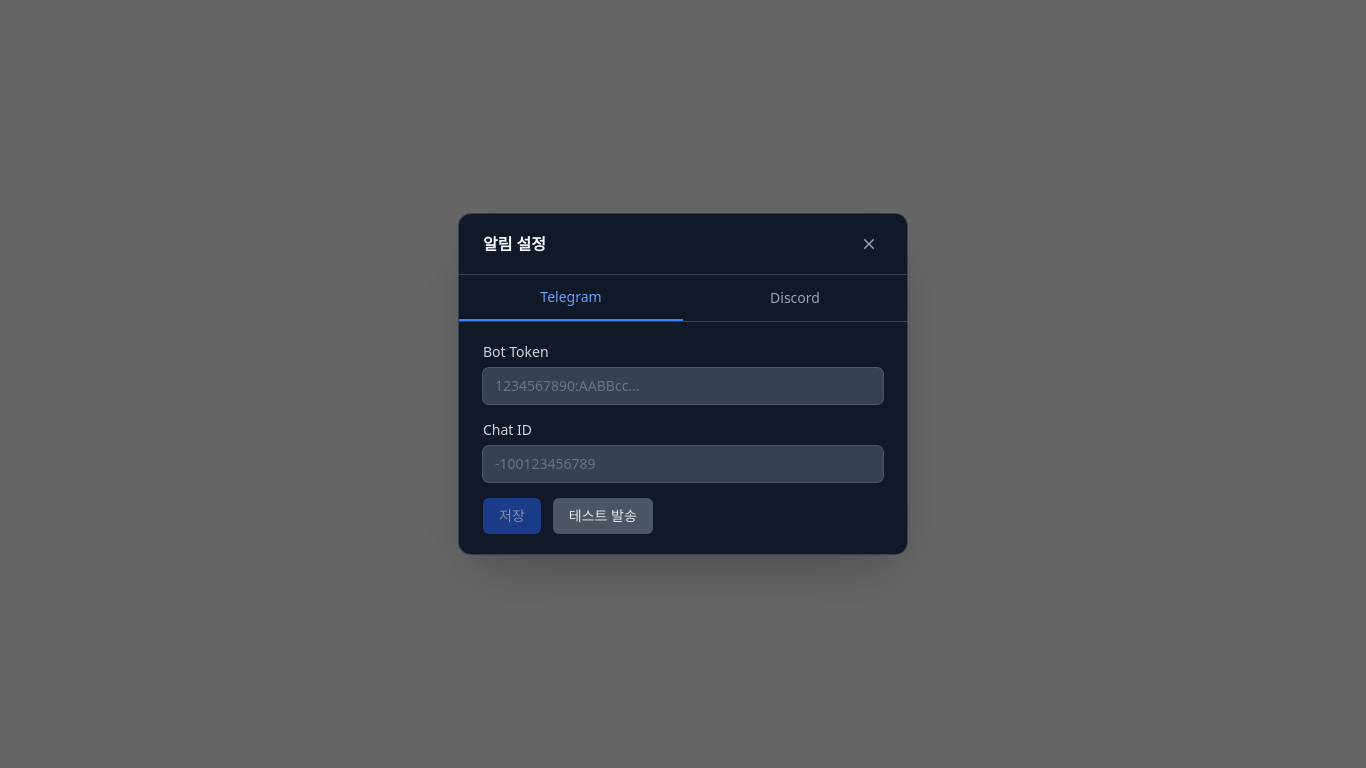
SettingsDialog › Telegram 테스트 발송 성공 시 "발송 성공" 텍스트를 표시한다
In the password field labelled "Bot Token": (683, 386) [483,368,883,404], type "token123"
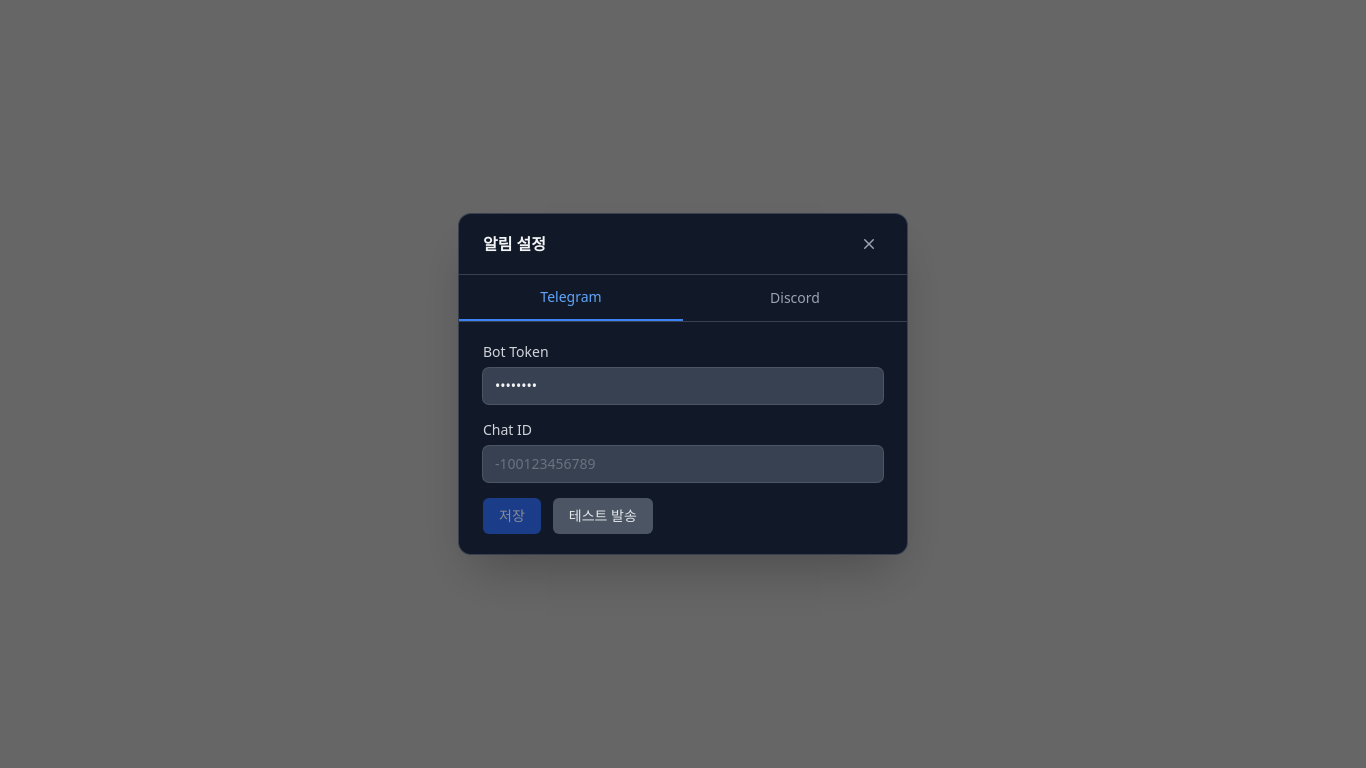
In the field labelled "Chat ID": (683, 464) [483,446,883,482], type "-999"
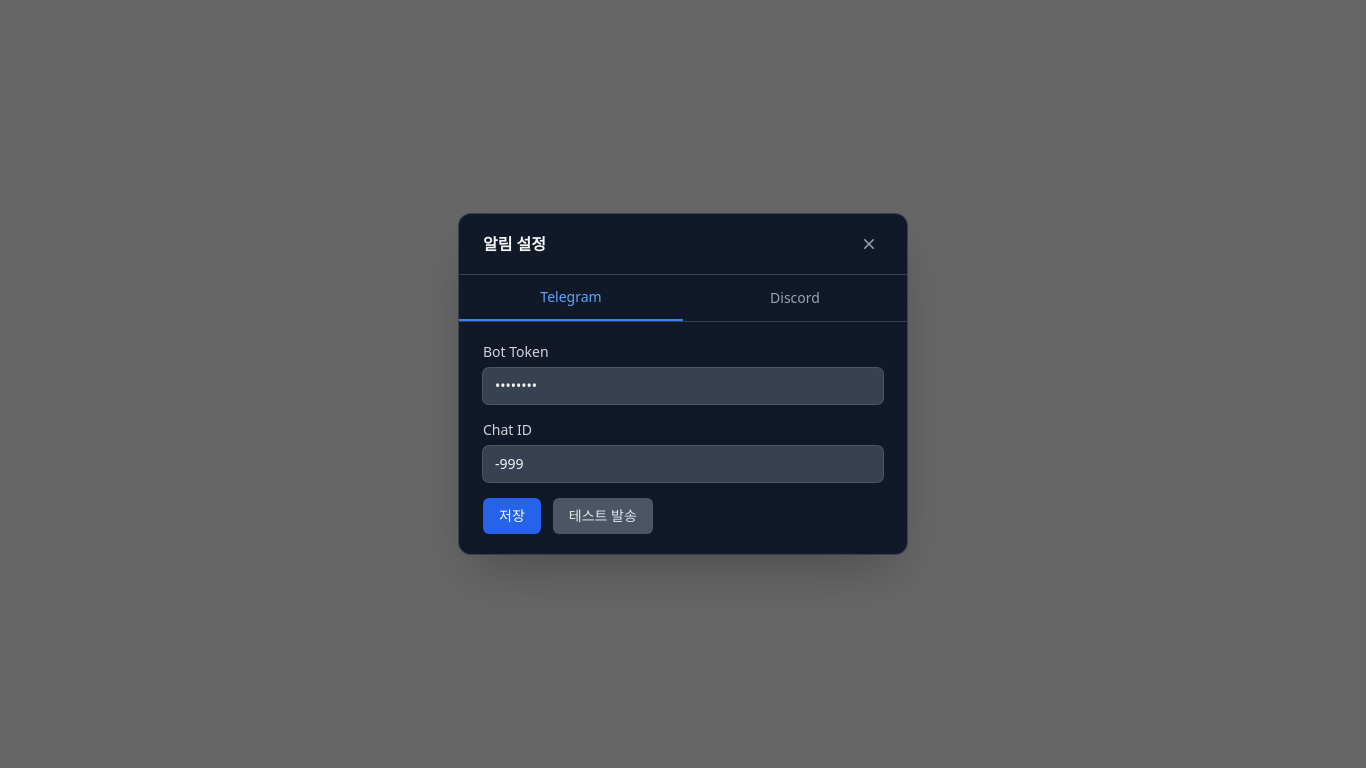
Click the button "테스트 발송": (603, 516) [553,498,653,534]
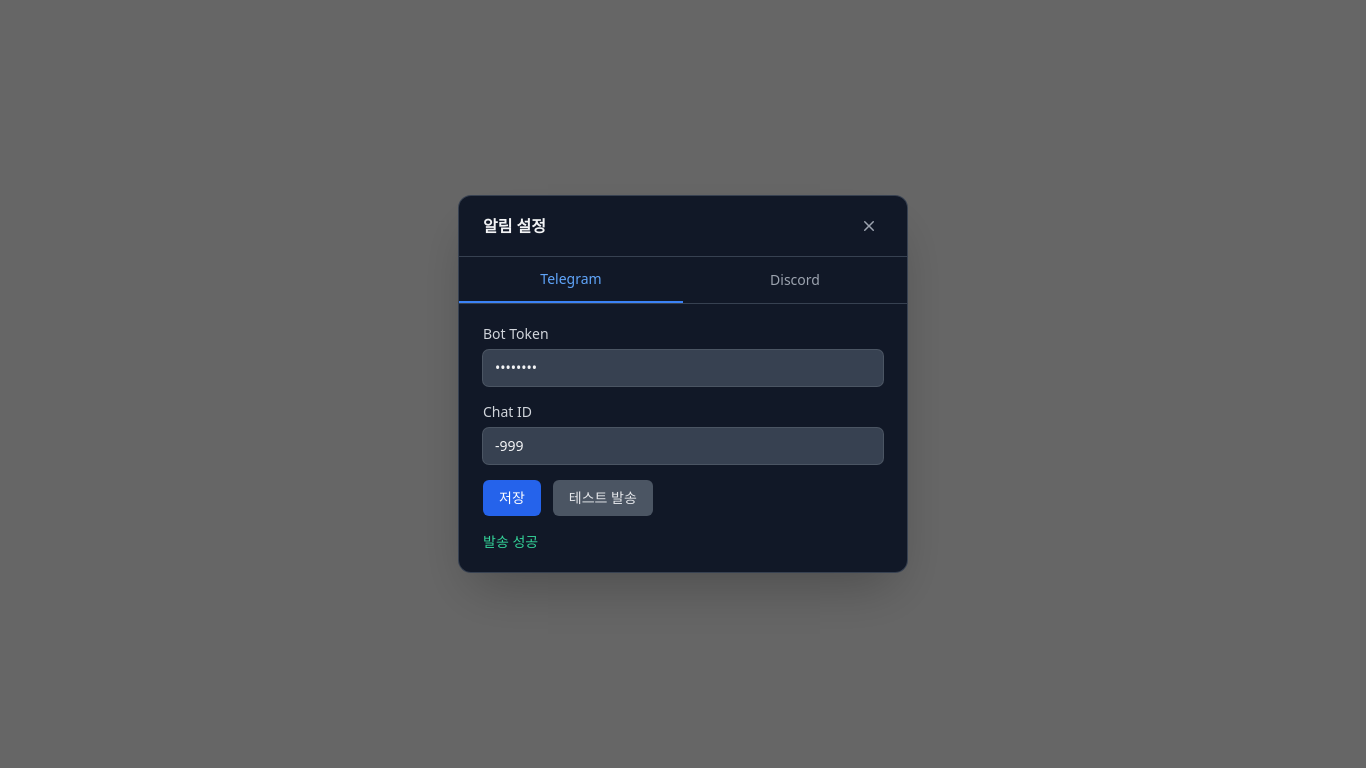
Now the text "발송 성공" is shown, box [483,532,538,551]
